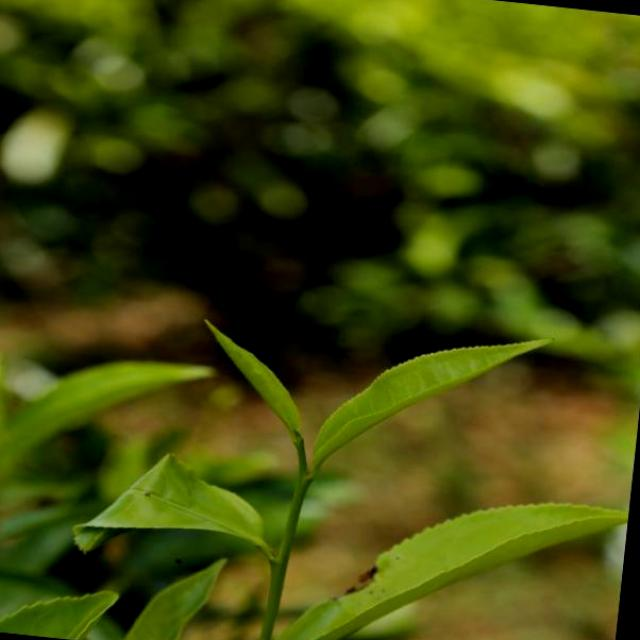Stem: (294, 478, 311, 497)
